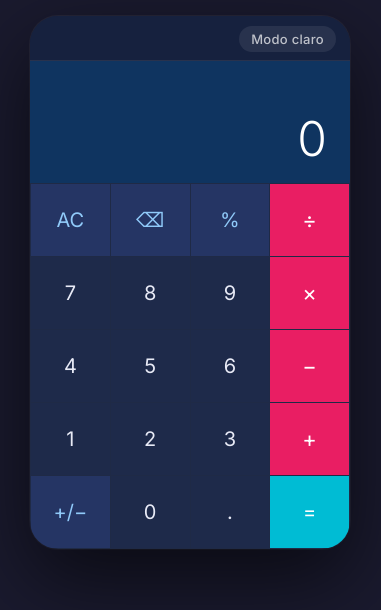
<Calculator /> (integración) › muestra "Error" al dividir entre cero
The image size is (381, 610).
Click the button "6": (230, 366) [190,330,269,402]
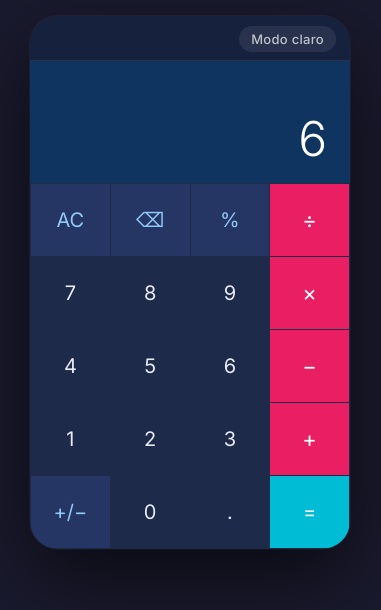
Click the button "÷": (310, 220) [270,184,349,256]
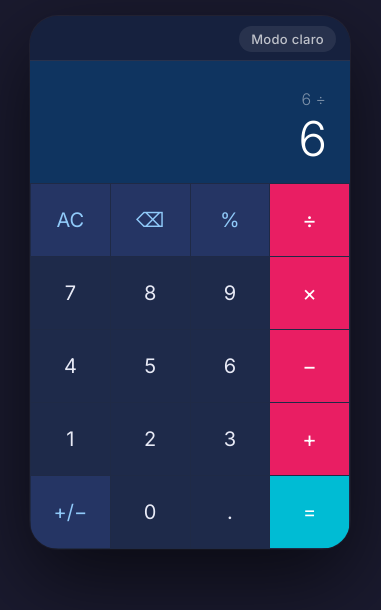
Click the button "0": (150, 512) [111,476,190,548]
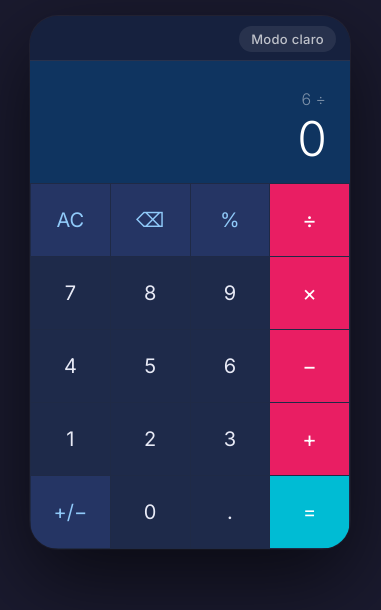
Click the button "=": (310, 512) [270,476,349,548]
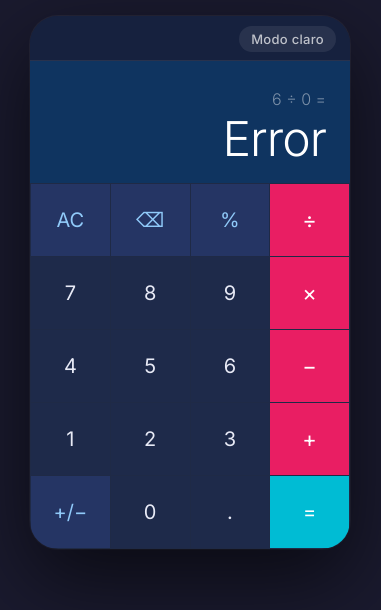
Expected: the text with class "display-value" reads "Error", [222,108,326,168]
